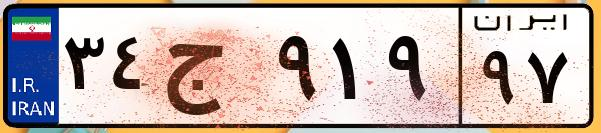1: (330, 28, 385, 110)
3: (57, 26, 110, 100)
4: (110, 28, 158, 98)
7: (525, 38, 570, 115)
9: (270, 28, 330, 110), (385, 28, 445, 110), (475, 38, 525, 113)
ج: (158, 20, 270, 120)
